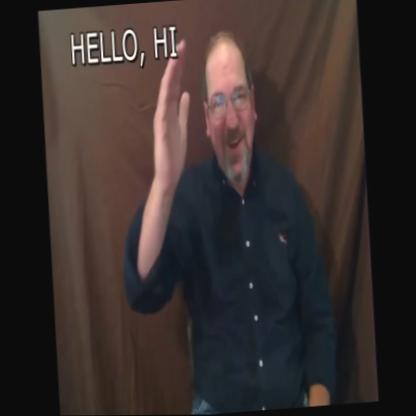Hello: (133, 31, 269, 222)
